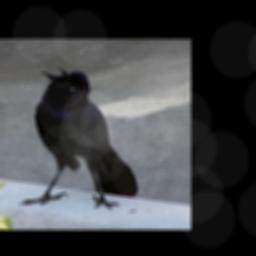Crow: (18, 66, 137, 209)
